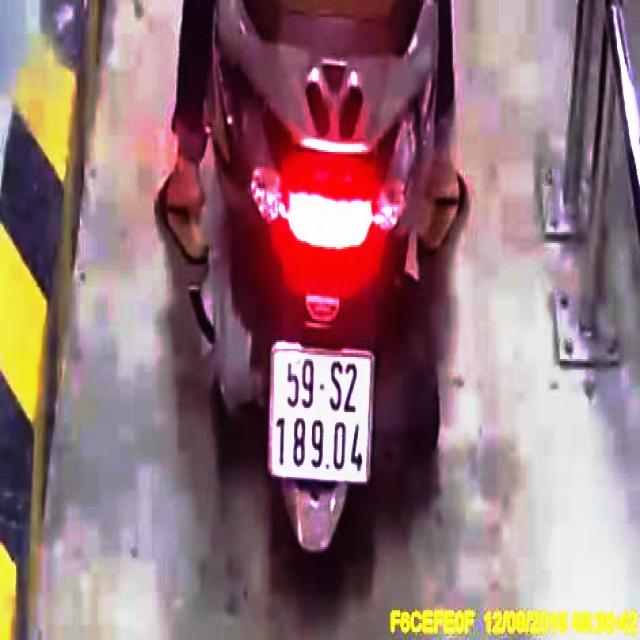license_plate: (272, 350, 377, 481)
